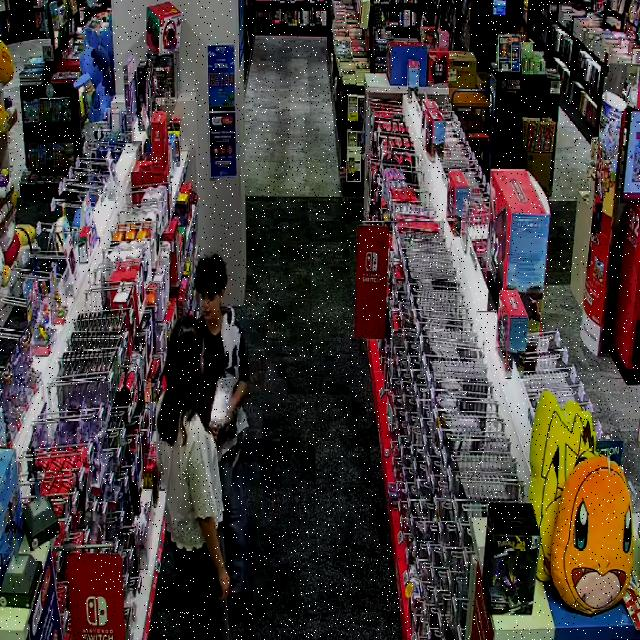hands: (199, 518, 229, 598), (207, 423, 220, 442), (225, 412, 233, 432)
person: (157, 317, 229, 639), (195, 253, 248, 616)
